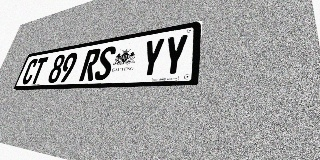8: (46, 54, 67, 83)
9: (58, 52, 79, 82)
C: (21, 58, 39, 85)
R: (79, 48, 101, 81)
S: (93, 45, 117, 81)
T: (29, 57, 48, 84)
Y: (160, 34, 189, 77), (138, 37, 165, 78)
